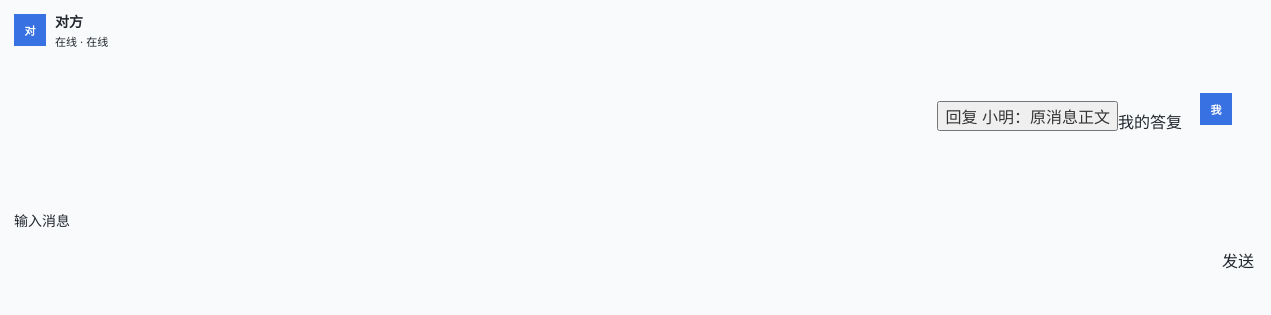
Test: reply interactions › shows a hint when the original message has not been loaded
The width and height of the screenshot is (1271, 315).
Click the button with aria-label "定位被回复消息". click: (1028, 116)
box: [937,101,1118,131]
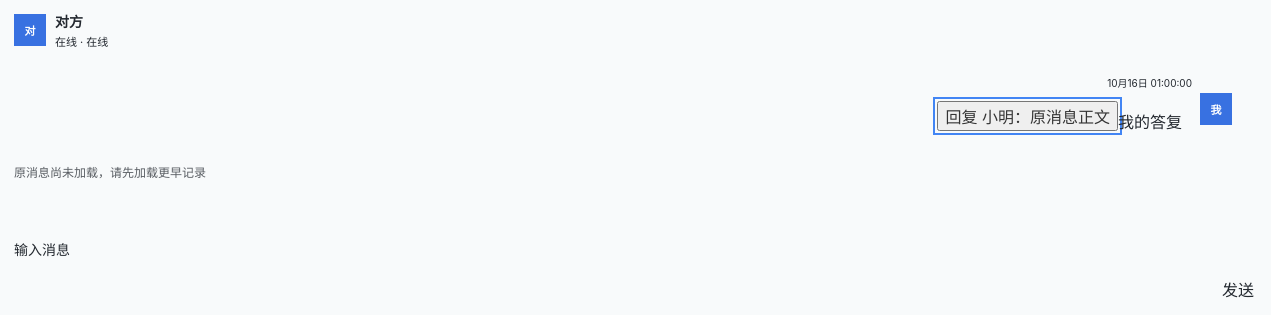
Expected: the text "原消息尚未加载，请先加载更早记录" is shown, [14,165,206,180]
